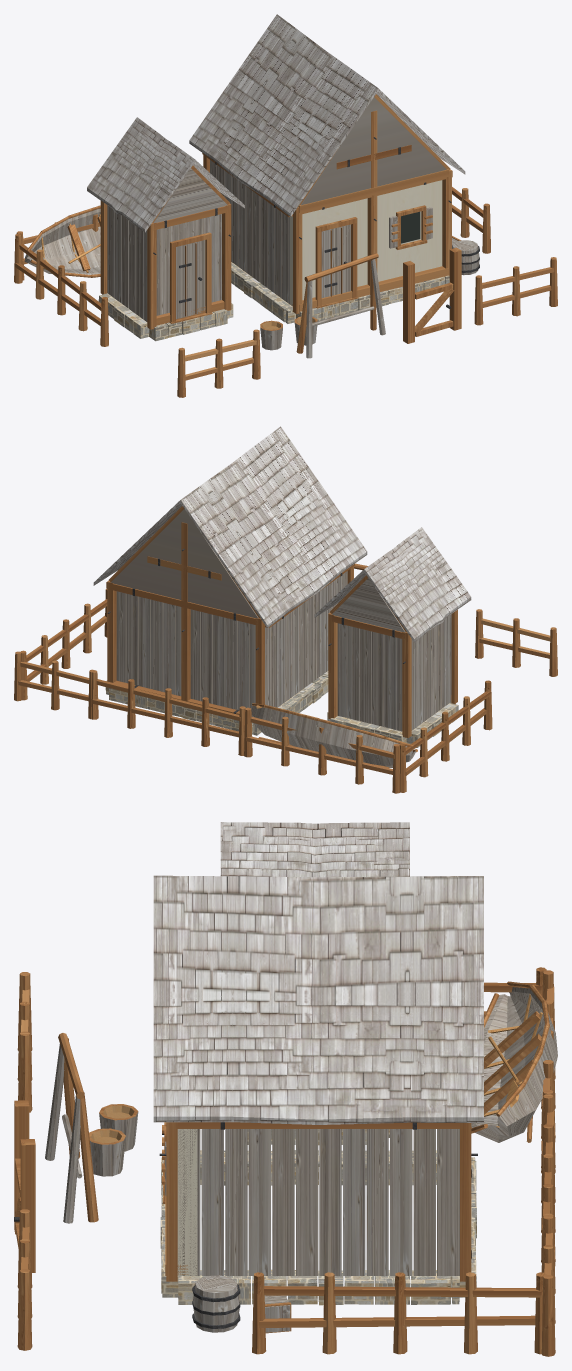
The model's file is fishing_camp_textured_v2.glb.
The picture shows the model from 3 angles, top to bottom: view 1: azimuth 30°, elevation 25°; view 2: azimuth 150°, elevation 25°; view 3: azimuth 270°, elevation 25°; orthographic projection. The views are drawn at different scales.
Parts seen in each view (by area): view 1: FC_Main_Roof_Left, FC_Shed_Roof_Left, FC_Main_Front_Gable, FC_Main_Left_Plank_Wall, FC_Main_Front_Window_Host, FC_Main_Front_Door_Host, FC_Shed_Left_Wall, FC_Leaning_River_Dugout, FC_Shed_Service_Door, FC_Shed_Front_Door_Host, FC_Main_Service_Door, FC_Fence_West (+23 smaller); view 2: FC_Main_Roof_Left, FC_Main_Rear_Plank_Wall, FC_Main_Rear_Gable, FC_Shed_Roof_Left, FC_Shed_Rear_Wall, FC_Main_Left_Plank_Wall, FC_Leaning_River_Dugout, FC_Shed_Left_Wall, FC_Fence_Rear_Centre, FC_Fence_Rear_West, FC_Fence_West, FC_Fence_East (+19 smaller); view 3: FC_Main_Roof_Right, FC_Main_Right_Plank_Wall, FC_Shed_Roof_Right, FC_Fence_East, FC_Leaning_River_Dugout, FC_Fish_Drying_Rack, FC_Main_Foundation_Right, FC_Main_Front_Window_Host, FC_Open_Yard_Gate, FC_Wash_Buckets, FC_Brine_Barrel, FC_Main_Front_Post_3 (+11 smaller).
Boxes of the visible parts, x1,y1,x2,y2 form: FC_Main_Roof_Left: (189, 14, 377, 216); FC_Shed_Roof_Left: (87, 117, 194, 232); FC_Main_Front_Gable: (298, 94, 450, 207); FC_Main_Left_Plank_Wall: (210, 160, 289, 304); FC_Main_Front_Window_Host: (374, 169, 449, 291); FC_Main_Front_Door_Host: (290, 188, 374, 311); FC_Shed_Left_Wall: (107, 205, 147, 321); FC_Leaning_River_Dugout: (24, 205, 100, 277); FC_Shed_Service_Door: (169, 232, 212, 323); FC_Shed_Front_Door_Host: (156, 214, 224, 325); FC_Main_Service_Door: (315, 217, 358, 309); FC_Fence_West: (14, 233, 108, 346); FC_Main_Roof_Left: (180, 426, 367, 628); FC_Main_Rear_Plank_Wall: (116, 591, 255, 710); FC_Main_Rear_Gable: (109, 506, 259, 618); FC_Shed_Roof_Left: (364, 527, 471, 642); FC_Shed_Rear_Wall: (337, 623, 402, 731); FC_Main_Left_Plank_Wall: (265, 571, 347, 707); FC_Leaning_River_Dugout: (251, 703, 417, 767); FC_Shed_Left_Wall: (411, 614, 451, 730); FC_Fence_Rear_Centre: (91, 670, 245, 755); FC_Fence_Rear_West: (244, 707, 399, 793); FC_Fence_West: (399, 680, 492, 792); FC_Fence_East: (20, 588, 107, 700); FC_Main_Roof_Right: (153, 875, 483, 1124); FC_Main_Right_Plank_Wall: (178, 1129, 459, 1275); FC_Shed_Roof_Right: (220, 822, 409, 877); FC_Fence_East: (252, 1272, 546, 1354); FC_Leaning_River_Dugout: (471, 981, 557, 1142); FC_Fish_Drying_Rack: (45, 1033, 98, 1223); FC_Main_Foundation_Right: (178, 1269, 459, 1305); FC_Main_Front_Window_Host: (165, 1129, 197, 1275); FC_Open_Yard_Gate: (14, 1100, 35, 1272); FC_Wash_Buckets: (89, 1104, 138, 1176); FC_Brine_Barrel: (192, 1275, 240, 1332); FC_Main_Front_Post_3: (159, 1122, 177, 1281).
Bounding box in the file's own units: 10.51 × 5.69 × 7.7.
Materials: 14 (13 with a texture image).
